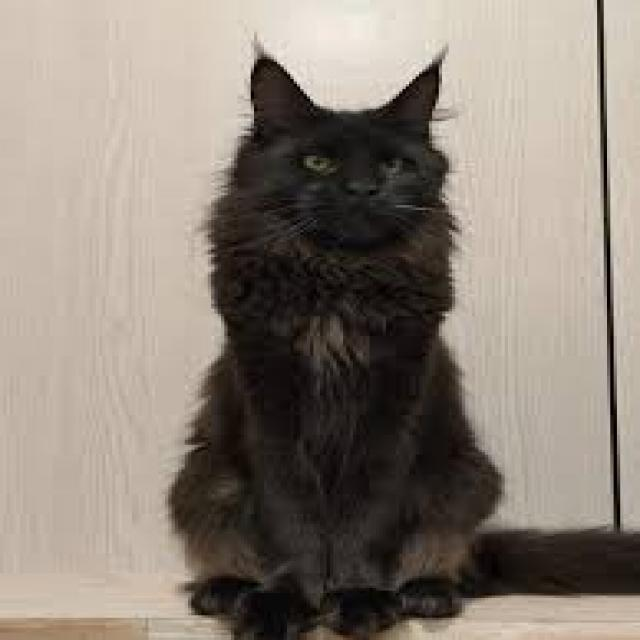cat: (238, 103, 490, 595)
